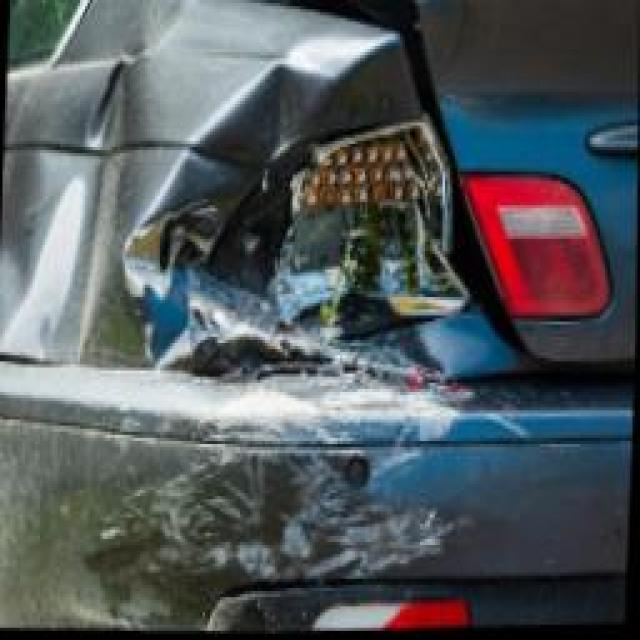Bumper: (128, 374, 540, 627)
Fender: (0, 55, 224, 378)
Light: (232, 119, 457, 375)
